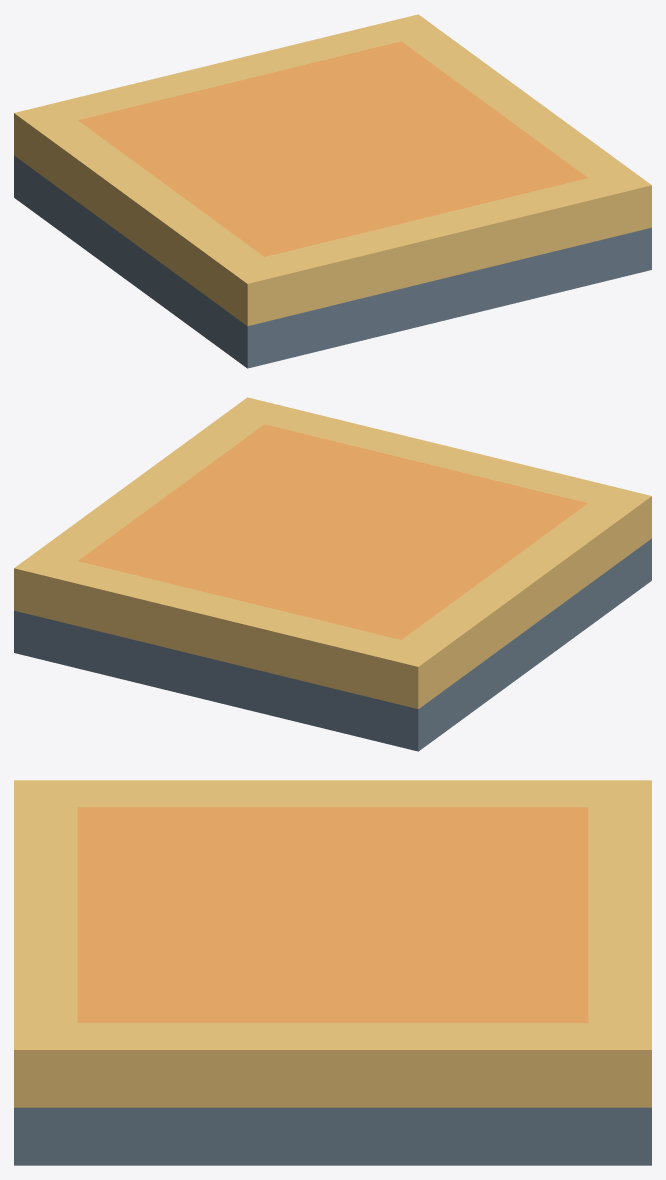
Rendered from platform1.obj.
The picture shows the model from 3 angles, top to bottom: view 1: azimuth 30°, elevation 25°; view 2: azimuth 150°, elevation 25°; view 3: azimuth 270°, elevation 25°; orthographic projection. The views are drawn at different scales.
Size of the model in its own units: 10 by 2 by 10.
